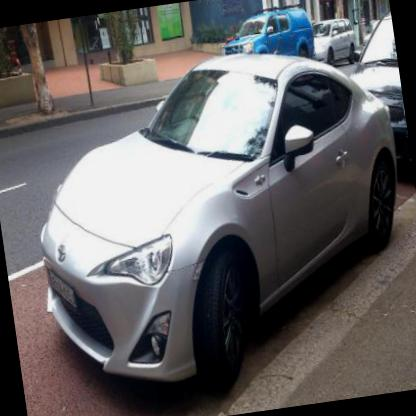car: (14, 33, 415, 415), (340, 8, 412, 185), (218, 2, 316, 72), (308, 16, 356, 67)
